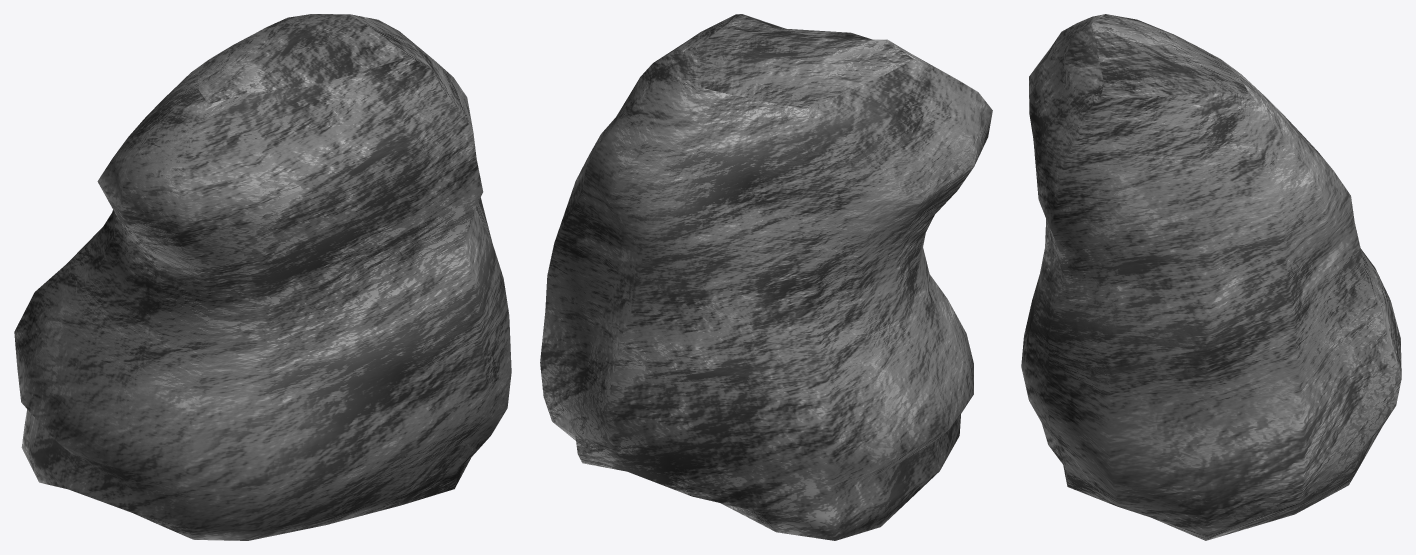
File: RockMediumSingle01.fbx
3 renders of one model, left to right at view 1: azimuth 30°, elevation 25°; view 2: azimuth 150°, elevation 25°; view 3: azimuth 270°, elevation 25°, orthographic. The views are drawn at different scales.
Parts seen in each view (by area): view 1: MediumRockSingle; view 2: MediumRockSingle; view 3: MediumRockSingle.
Part boxes in pixels (box(x1,y1,x2,y2)): MediumRockSingle: box(14, 14, 511, 540); MediumRockSingle: box(540, 14, 992, 540); MediumRockSingle: box(1021, 14, 1401, 540).
Bounding box in the file's own units: 238 × 252 × 209.
